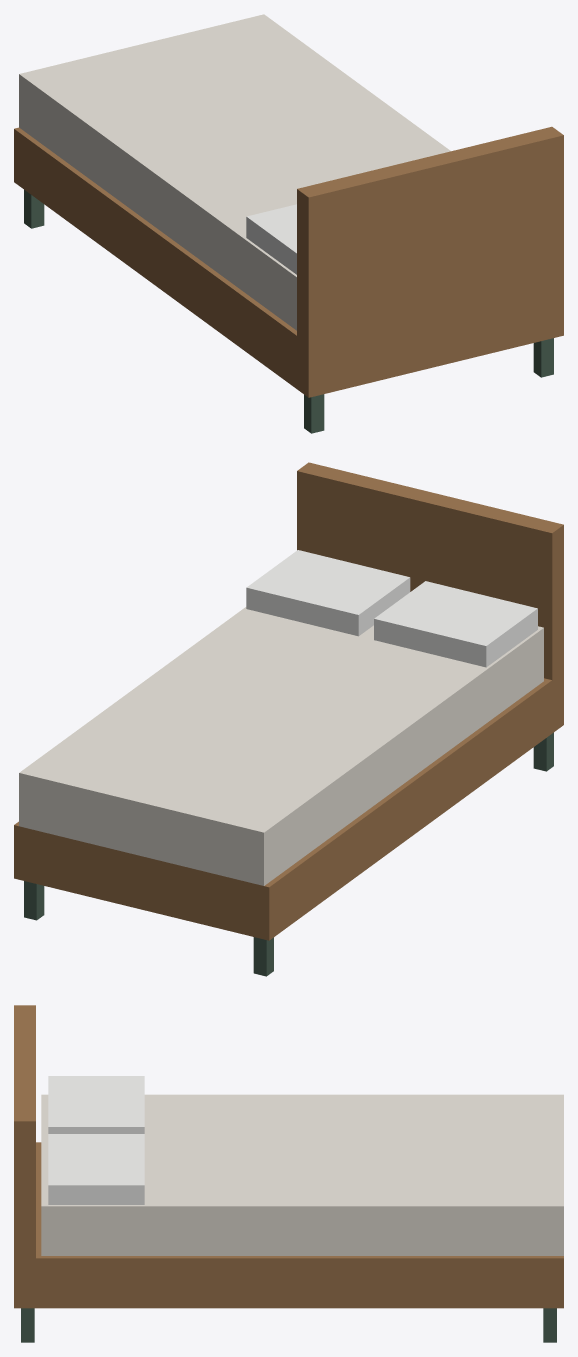
The picture shows the model from 3 angles, top to bottom: view 1: azimuth 30°, elevation 25°; view 2: azimuth 150°, elevation 25°; view 3: azimuth 270°, elevation 25°; orthographic projection. The views are drawn at different scales.
Visible parts, largest first — view 1: mattress, headboard, frame, pillow-0, leg-0-1, leg-1-1, leg-0-0; view 2: mattress, frame, headboard, pillow-0, pillow-1, leg-0-0, leg-1-0, leg-0-1; view 3: mattress, frame, pillow-1, headboard, pillow-0, leg-1-0, leg-1-1.
Boxes of the visible parts, bbox=[...] form: mattress: bbox=[19, 14, 450, 330]; headboard: bbox=[297, 126, 563, 397]; frame: bbox=[14, 127, 563, 397]; pillow-0: bbox=[246, 204, 296, 274]; leg-0-1: bbox=[304, 394, 324, 433]; leg-1-1: bbox=[533, 338, 553, 377]; leg-0-0: bbox=[24, 190, 44, 228]; mattress: bbox=[19, 607, 543, 885]; frame: bbox=[14, 672, 563, 940]; headboard: bbox=[297, 462, 563, 726]; pillow-0: bbox=[374, 581, 537, 667]; pillow-1: bbox=[246, 550, 410, 636]; leg-0-0: bbox=[253, 937, 273, 976]; leg-1-0: bbox=[24, 881, 44, 920]; leg-0-1: bbox=[533, 732, 553, 771]; mattress: bbox=[41, 1094, 563, 1255]; frame: bbox=[14, 1142, 563, 1308]; pillow-1: bbox=[48, 1134, 144, 1204]; headboard: bbox=[14, 1005, 35, 1307]; pillow-0: bbox=[48, 1076, 144, 1133]; leg-1-0: bbox=[543, 1308, 556, 1342]; leg-1-1: bbox=[21, 1308, 34, 1342].
Bounding box in the file's own units: 1 × 0.9 × 2.
